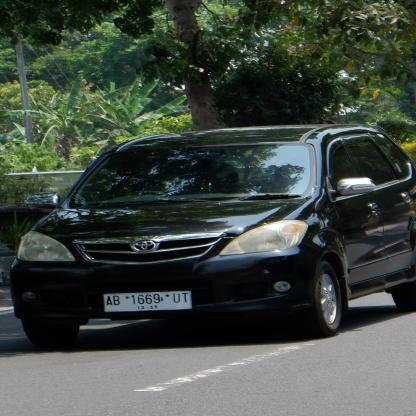Plat-Nomor: (98, 289, 195, 317)
